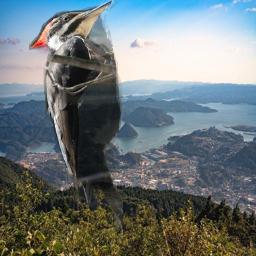Woodpecker: (29, 0, 123, 239)
